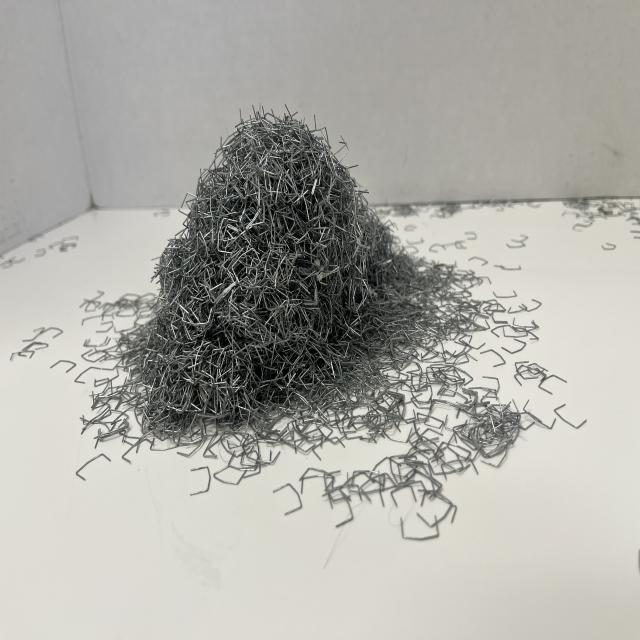staples: (136, 102, 480, 438)
